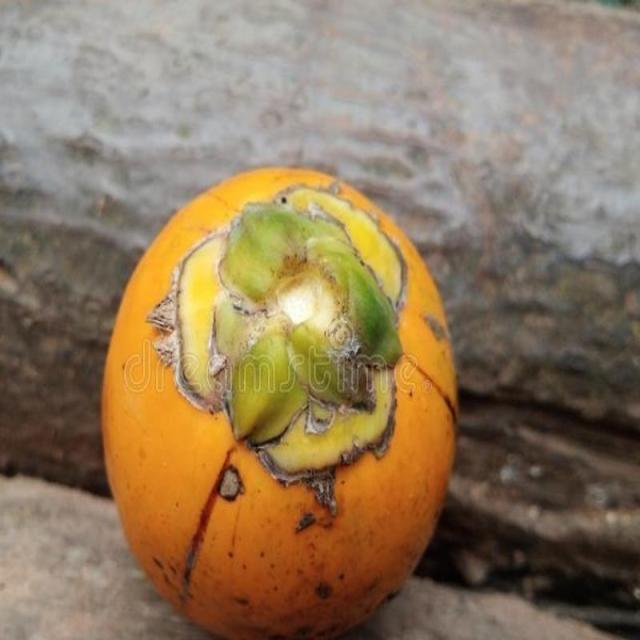good: (101, 166, 458, 639)
